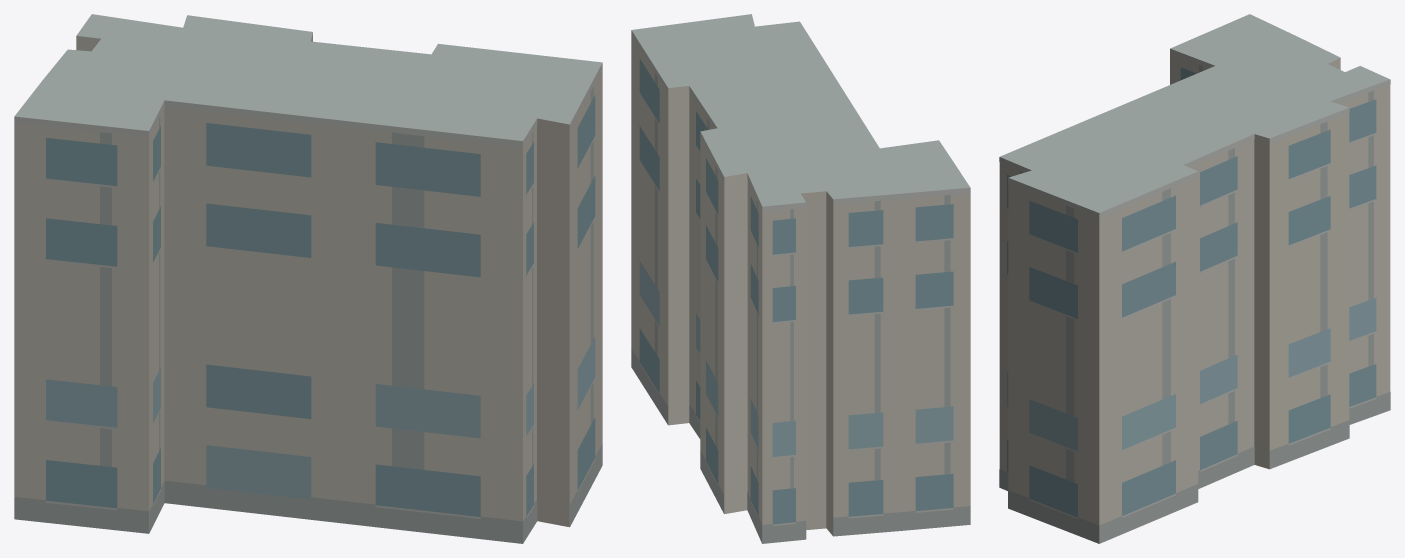
File: survey-upis-32694153.glb
The picture shows the model from 3 angles, left to right: view 1: azimuth 30°, elevation 25°; view 2: azimuth 150°, elevation 25°; view 3: azimuth 270°, elevation 25°; orthographic projection. The views are drawn at different scales.
Parts seen in each view (by area): view 1: survey-upis-32694153.tmp; view 2: survey-upis-32694153.tmp; view 3: survey-upis-32694153.tmp.
Boxes of the visible parts, x1,y1,x2,y2 form: survey-upis-32694153.tmp: (14, 14, 602, 543); survey-upis-32694153.tmp: (631, 14, 970, 543); survey-upis-32694153.tmp: (999, 14, 1390, 543).
Size of the model in its own units: 19.69 by 15.25 by 16.34.
